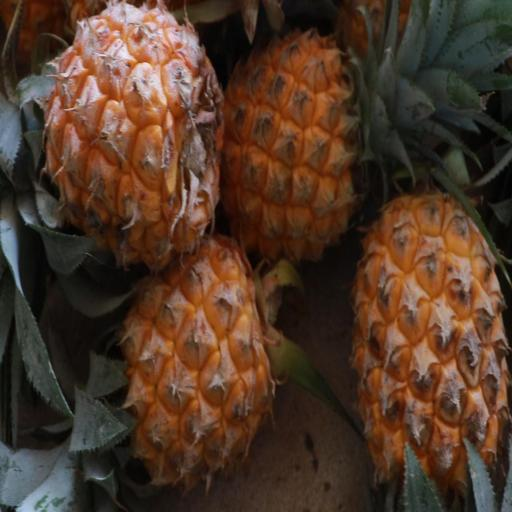Pineapple - v8 v1: (0, 0, 242, 286), (343, 182, 510, 512), (92, 220, 279, 494), (215, 16, 394, 272)
